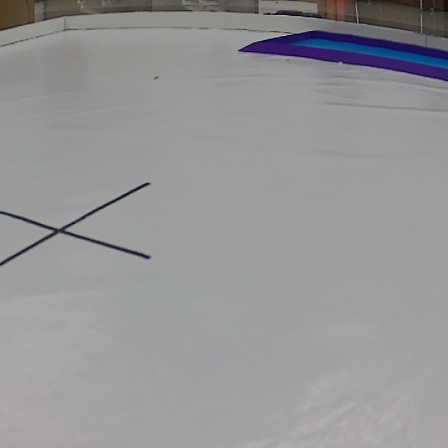blue_aim: (238, 28, 448, 85)
